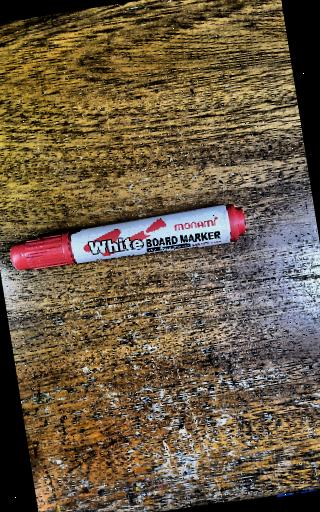marcador rojo: (10, 203, 246, 270)
